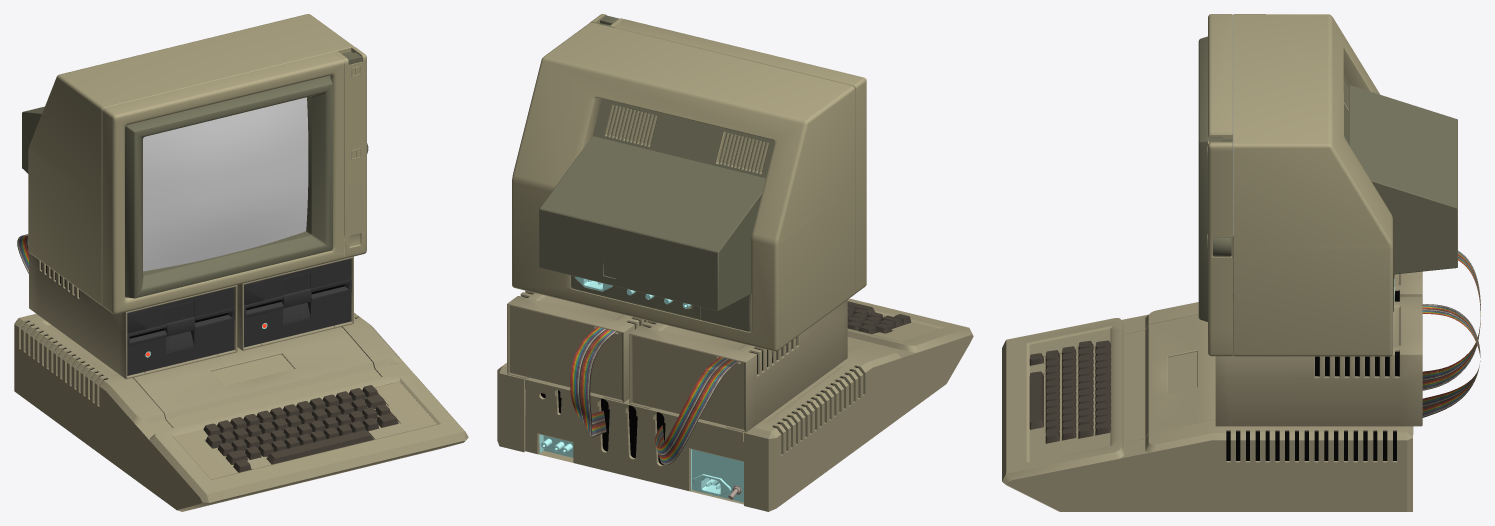
The model's file is Apple2.fbx.
The picture shows the model from 3 angles, left to right: view 1: azimuth 30°, elevation 25°; view 2: azimuth 150°, elevation 25°; view 3: azimuth 270°, elevation 25°; orthographic projection. The views are drawn at different scales.
Visible parts, largest first — view 1: Cube.027; view 2: Cube.027; view 3: Cube.027.
Boxes of the visible parts, x1=… form: Cube.027: x1=14, y1=14, x2=468, y2=511; Cube.027: x1=497, y1=14, x2=973, y2=511; Cube.027: x1=1002, y1=14, x2=1480, y2=511.
Size of the model in its own units: 156 by 192 by 228.
